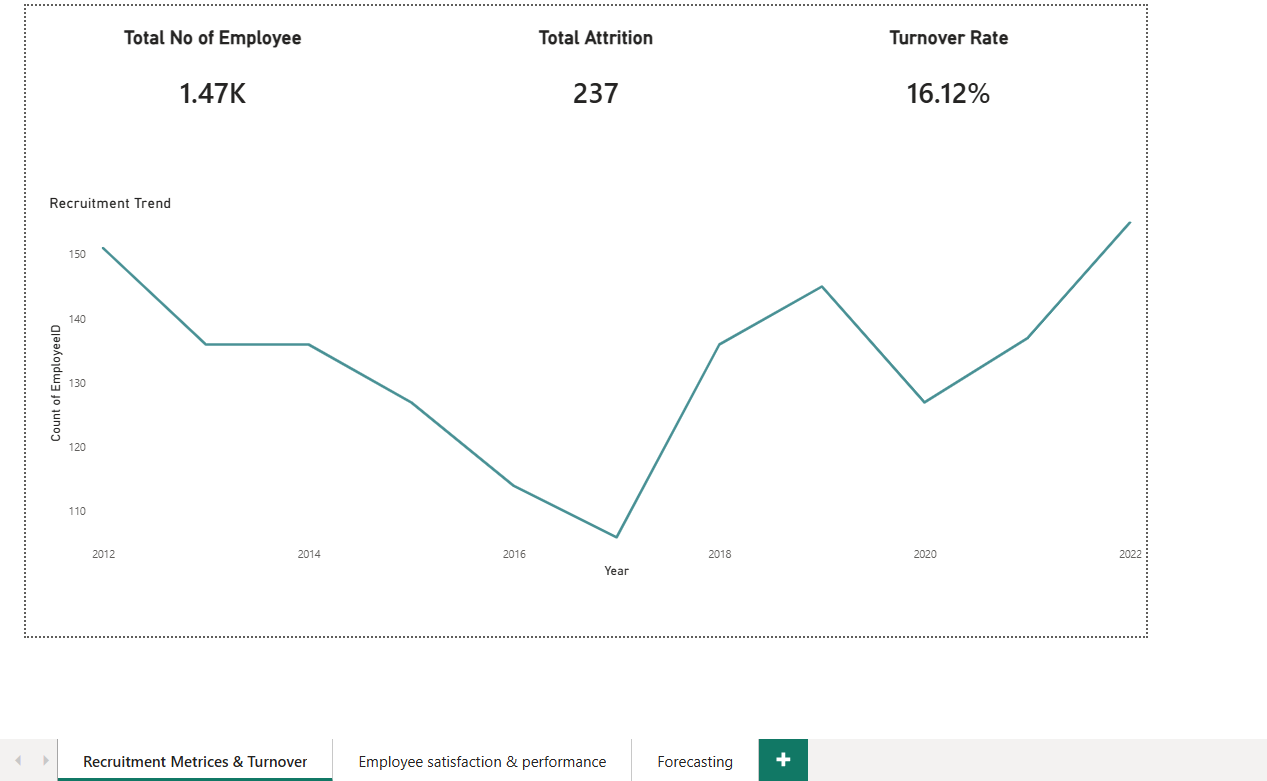

This screenshot's page, from the dashboard's own definition file:
{"tool":"powerbi","page":{"name":"Recruitment Metrices & Turnover","canvas":[1280,720],"ordinal":0},"visuals":[{"type":"cardVisual","title":"Total No of Employee","fields":{"Data":["CountNonNull(Employee.EmployeeID)"]},"box":[0,18.6,427.1,127.1],"z":0},{"type":"cardVisual","title":"Total Attrition","fields":{"Data":["CountNonNull(Employee.EmployeeID)"]},"box":[427.1,18.6,448.6,127.1],"z":1000},{"type":"cardVisual","title":"Turnover Rate","fields":{"Data":["Employee.Turnover_Rate"]},"box":[875.7,18.6,358.6,127.1],"z":2000},{"type":"lineChart","title":"Recruitment Trend","fields":{"Category":["Employee.HireDate.Variation.Date Hierarchy.Year","Employee.HireDate.Variation.Date Hierarchy.Quarter","Employee.HireDate.Variation.Date Hierarchy.Month","Employee.HireDate.Variation.Date Hierarchy.Day"],"Y":["CountNonNull(Employee.EmployeeID)"]},"box":[21.4,214.3,1258.6,444.3],"z":3000}]}

Visuals, with their boxes on the page's 1280x720 design canvas (x1, y1, x2, y2). These are canvas units, not pixel positions in the 1267x781 screenshot, which may show the page scaled, cropped or inside an application window:
"Total No of Employee" cardVisual: {"x1": 0, "y1": 19, "x2": 427, "y2": 146}
"Total Attrition" cardVisual: {"x1": 427, "y1": 19, "x2": 876, "y2": 146}
"Turnover Rate" cardVisual: {"x1": 876, "y1": 19, "x2": 1234, "y2": 146}
"Recruitment Trend" lineChart: {"x1": 21, "y1": 214, "x2": 1280, "y2": 659}
